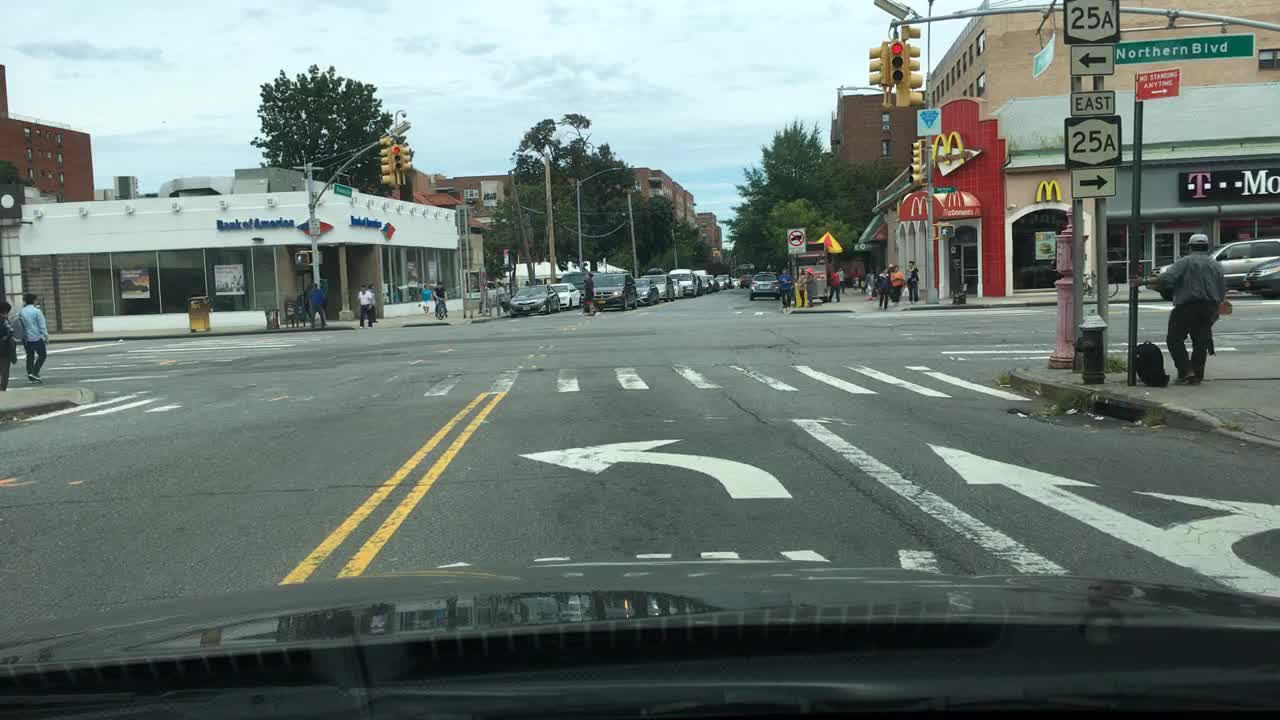bike: (1079, 267, 1119, 299)
car: (1151, 237, 1279, 299), (586, 269, 637, 314), (1241, 255, 1279, 305), (501, 283, 557, 315), (746, 269, 782, 300), (672, 266, 703, 297), (563, 273, 591, 305), (547, 283, 574, 311), (638, 278, 658, 308), (654, 275, 675, 303), (700, 271, 720, 292), (715, 271, 736, 288), (695, 268, 710, 291), (712, 274, 728, 289), (737, 275, 752, 288)
person: (1153, 232, 1229, 386), (10, 290, 50, 381), (1201, 299, 1233, 365), (0, 301, 15, 393), (305, 279, 329, 332), (353, 287, 376, 329), (578, 271, 597, 319), (416, 281, 436, 321), (824, 267, 844, 304), (775, 267, 793, 306), (892, 266, 909, 307), (903, 260, 919, 303), (876, 269, 890, 312), (794, 267, 807, 309), (367, 283, 380, 322), (834, 266, 850, 293), (805, 268, 815, 305), (851, 265, 861, 290)
rider: (432, 281, 450, 316)
traffic light: (900, 42, 924, 105), (889, 40, 913, 83), (869, 44, 883, 87), (379, 147, 392, 188), (910, 141, 922, 185), (400, 143, 412, 171), (394, 145, 404, 171), (296, 251, 311, 268), (936, 226, 952, 240)
traffic sign: (1114, 32, 1252, 61), (1063, 115, 1124, 168), (1063, 0, 1117, 44), (1134, 69, 1183, 99), (1066, 45, 1117, 72), (1065, 170, 1119, 194), (1029, 34, 1057, 73), (1066, 92, 1116, 113), (785, 228, 804, 257), (331, 182, 352, 196), (308, 213, 319, 236), (932, 183, 958, 191)
